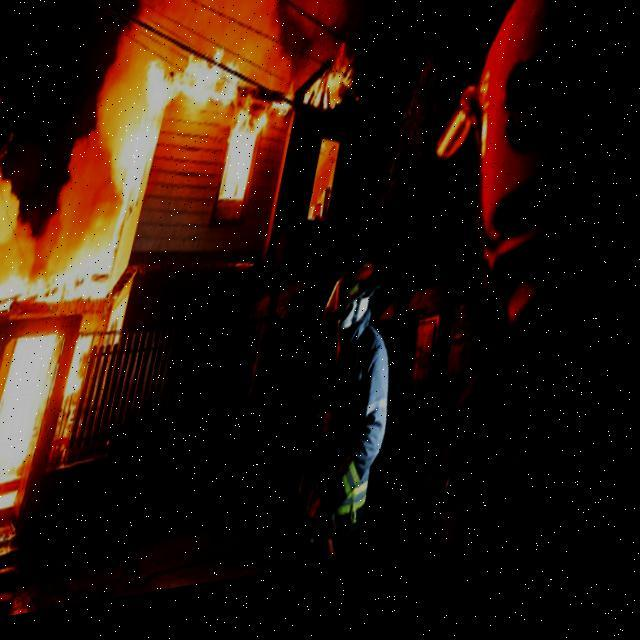Fire: (0, 34, 254, 326), (230, 84, 302, 212), (304, 56, 366, 128)
